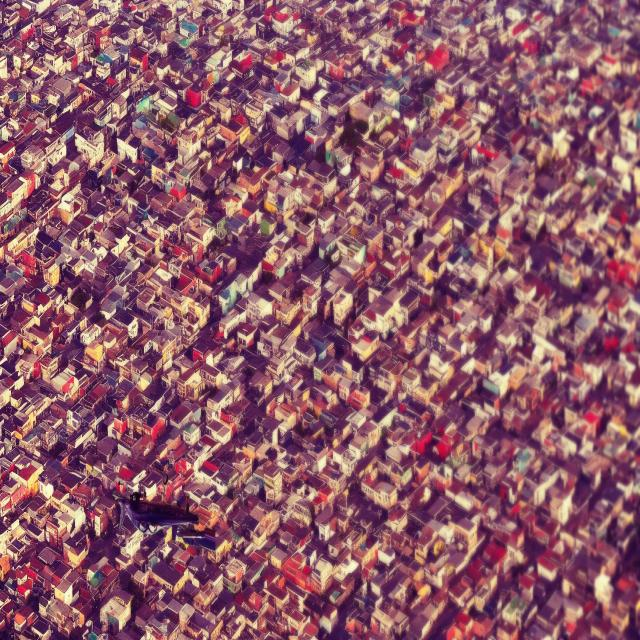airplane: (118, 500, 215, 550)
